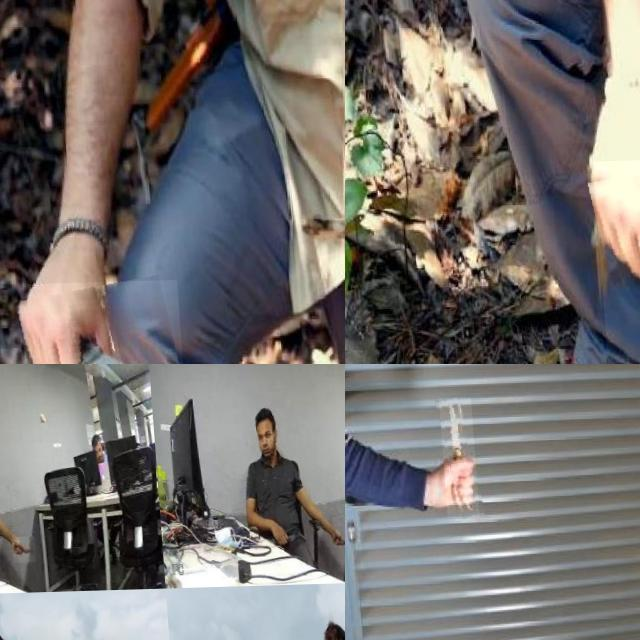-: (13, 281, 181, 364), (588, 158, 640, 364), (436, 399, 474, 520), (8, 538, 32, 564), (325, 536, 345, 554)
